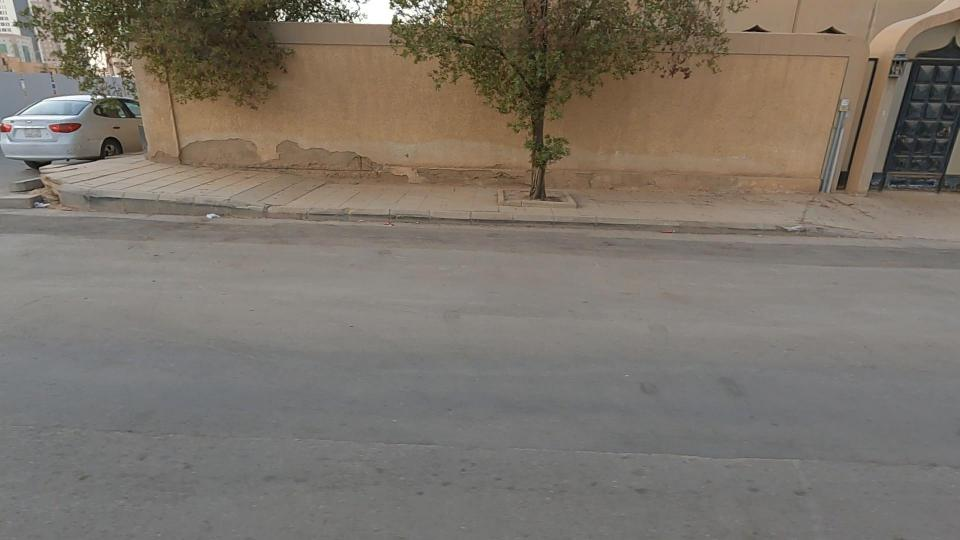GARBAGE: (176, 184, 241, 242)
